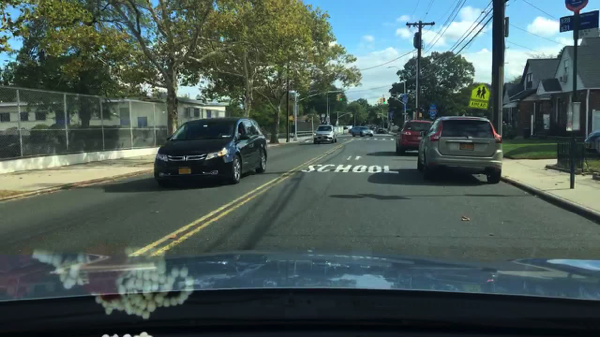car: (154, 117, 268, 188), (416, 116, 504, 184), (394, 120, 433, 154), (0, 133, 25, 158), (23, 139, 59, 155), (312, 125, 336, 145), (583, 130, 599, 157), (352, 127, 373, 138), (376, 127, 386, 134), (368, 124, 377, 130), (348, 126, 354, 132), (364, 123, 369, 126)
traffic light: (382, 98, 387, 106), (339, 93, 344, 101), (335, 94, 340, 102), (289, 116, 295, 122), (378, 96, 382, 104), (375, 114, 380, 119), (349, 114, 354, 118)
traffic sign: (559, 11, 599, 32), (469, 85, 491, 110), (565, 1, 588, 11), (428, 103, 436, 117), (402, 96, 408, 103), (412, 112, 417, 120), (402, 112, 408, 117), (418, 112, 422, 118)
